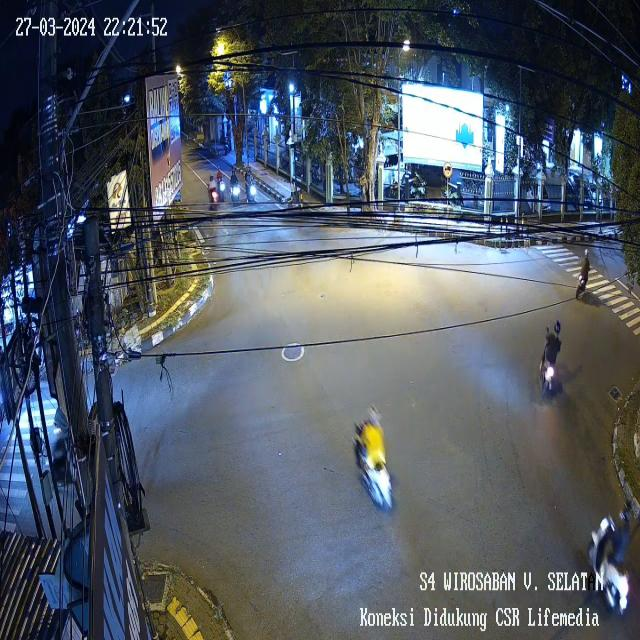motorcycle: (582, 494, 634, 621), (354, 402, 398, 521), (537, 319, 565, 403), (570, 240, 596, 307), (228, 164, 244, 208), (243, 165, 258, 211), (207, 170, 219, 214), (215, 164, 228, 201)
